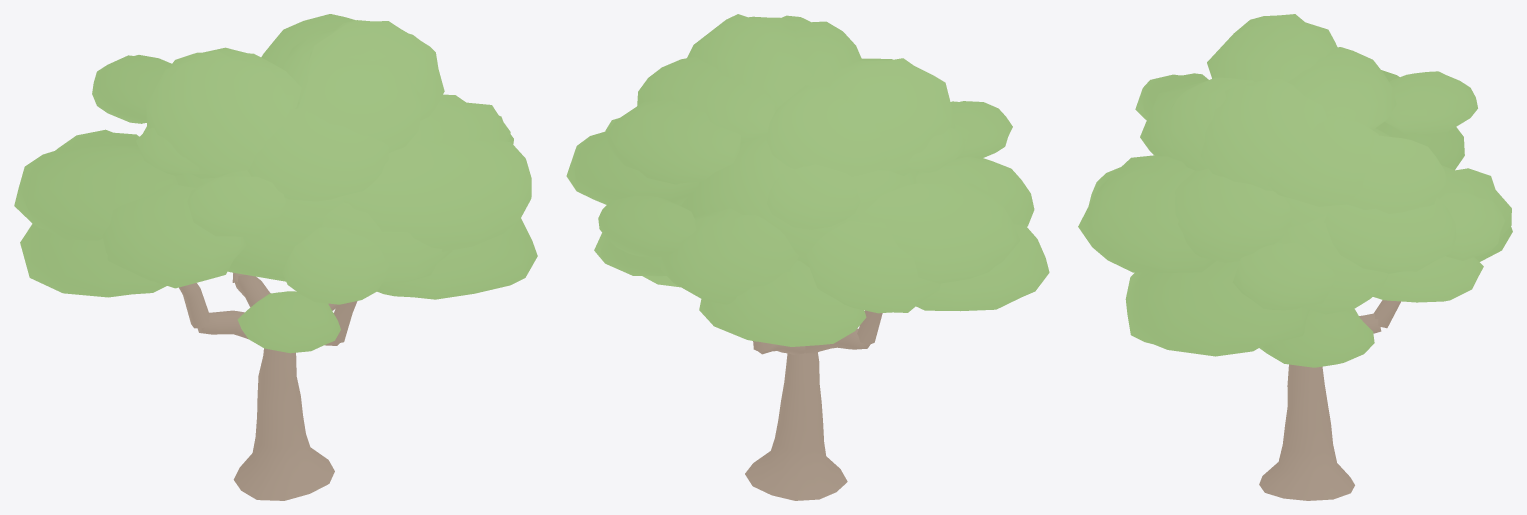
Rendered from Blender_Oak_1.glb.
3 views of the same model, side by side, from view 1: azimuth 30°, elevation 25°; view 2: azimuth 150°, elevation 25°; view 3: azimuth 270°, elevation 25° (orthographic). The views are drawn at different scales.
Parts seen in each view (by area): view 1: Blender_Oak_1; view 2: Blender_Oak_1; view 3: Blender_Oak_1.
Boxes of the visible parts, x1,y1,x2,y2 form: Blender_Oak_1: [14, 14, 537, 500]; Blender_Oak_1: [566, 14, 1049, 500]; Blender_Oak_1: [1078, 14, 1512, 500].
Size of the model in its own units: 19.92 by 18.53 by 16.88.
